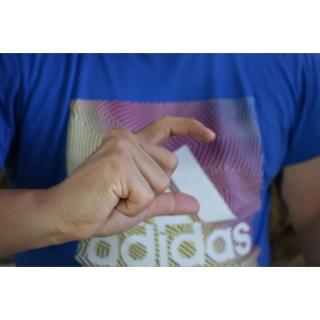DELL: (44, 112, 228, 251)
